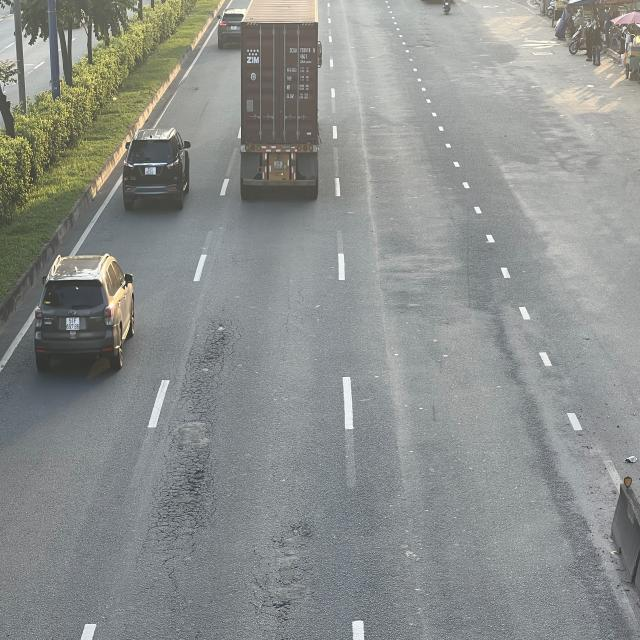car: (34, 251, 137, 373), (123, 130, 192, 216), (217, 8, 242, 46)
container: (240, 0, 322, 197)
